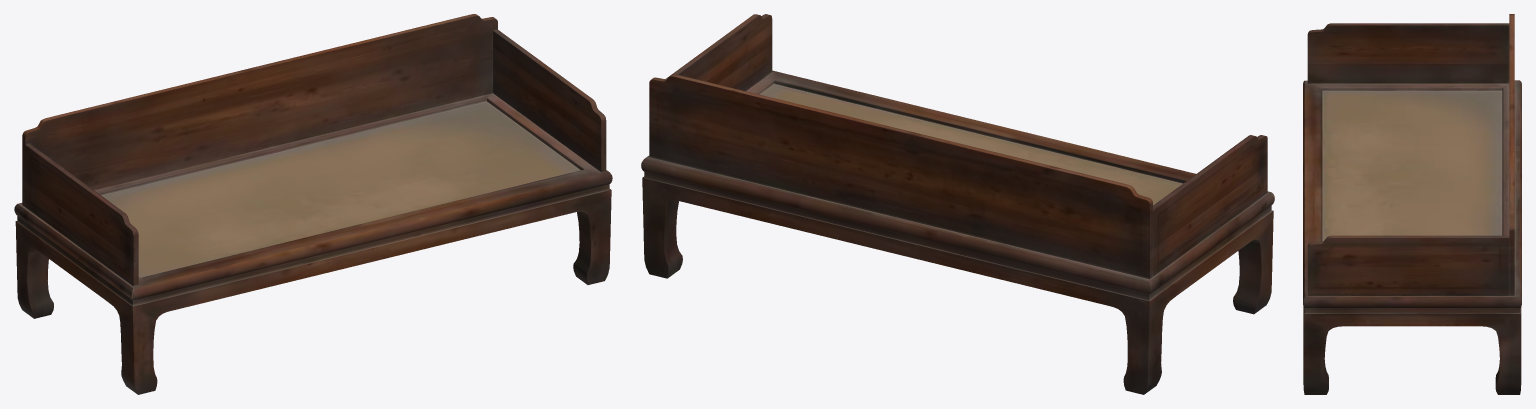
The model's file is ph-chinese_sofa.glb.
3 views of the same model, side by side, from view 1: azimuth 30°, elevation 25°; view 2: azimuth 150°, elevation 25°; view 3: azimuth 270°, elevation 25° (orthographic). The views are drawn at different scales.
Visible parts, largest first — view 1: chinese_sofa; view 2: chinese_sofa; view 3: chinese_sofa.
Part boxes in pixels (bbox=[...]): chinese_sofa: bbox=[14, 14, 612, 394]; chinese_sofa: bbox=[641, 14, 1274, 394]; chinese_sofa: bbox=[1303, 14, 1521, 394].
Size of the model in its own units: 1 by 0.3763 by 0.4239.
Materials: 1 (1 with a texture image).
